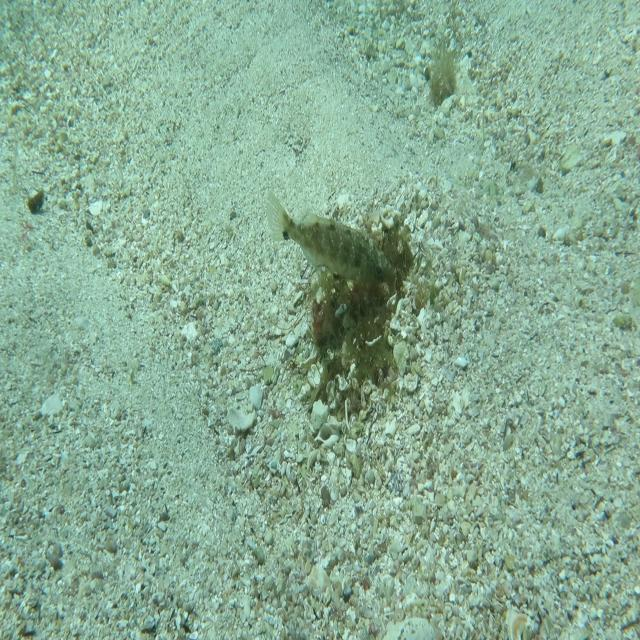NIP_CORE: (266, 188, 398, 289)
nest: (303, 208, 433, 416)
vegetation: (426, 47, 459, 107), (26, 184, 45, 215)
